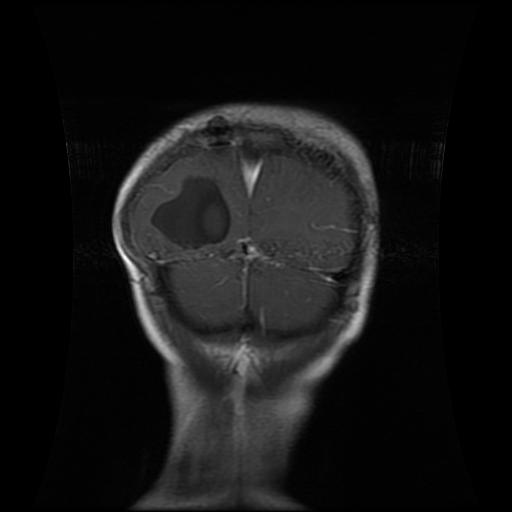Gliomia_tumour: (148, 172, 234, 251)
